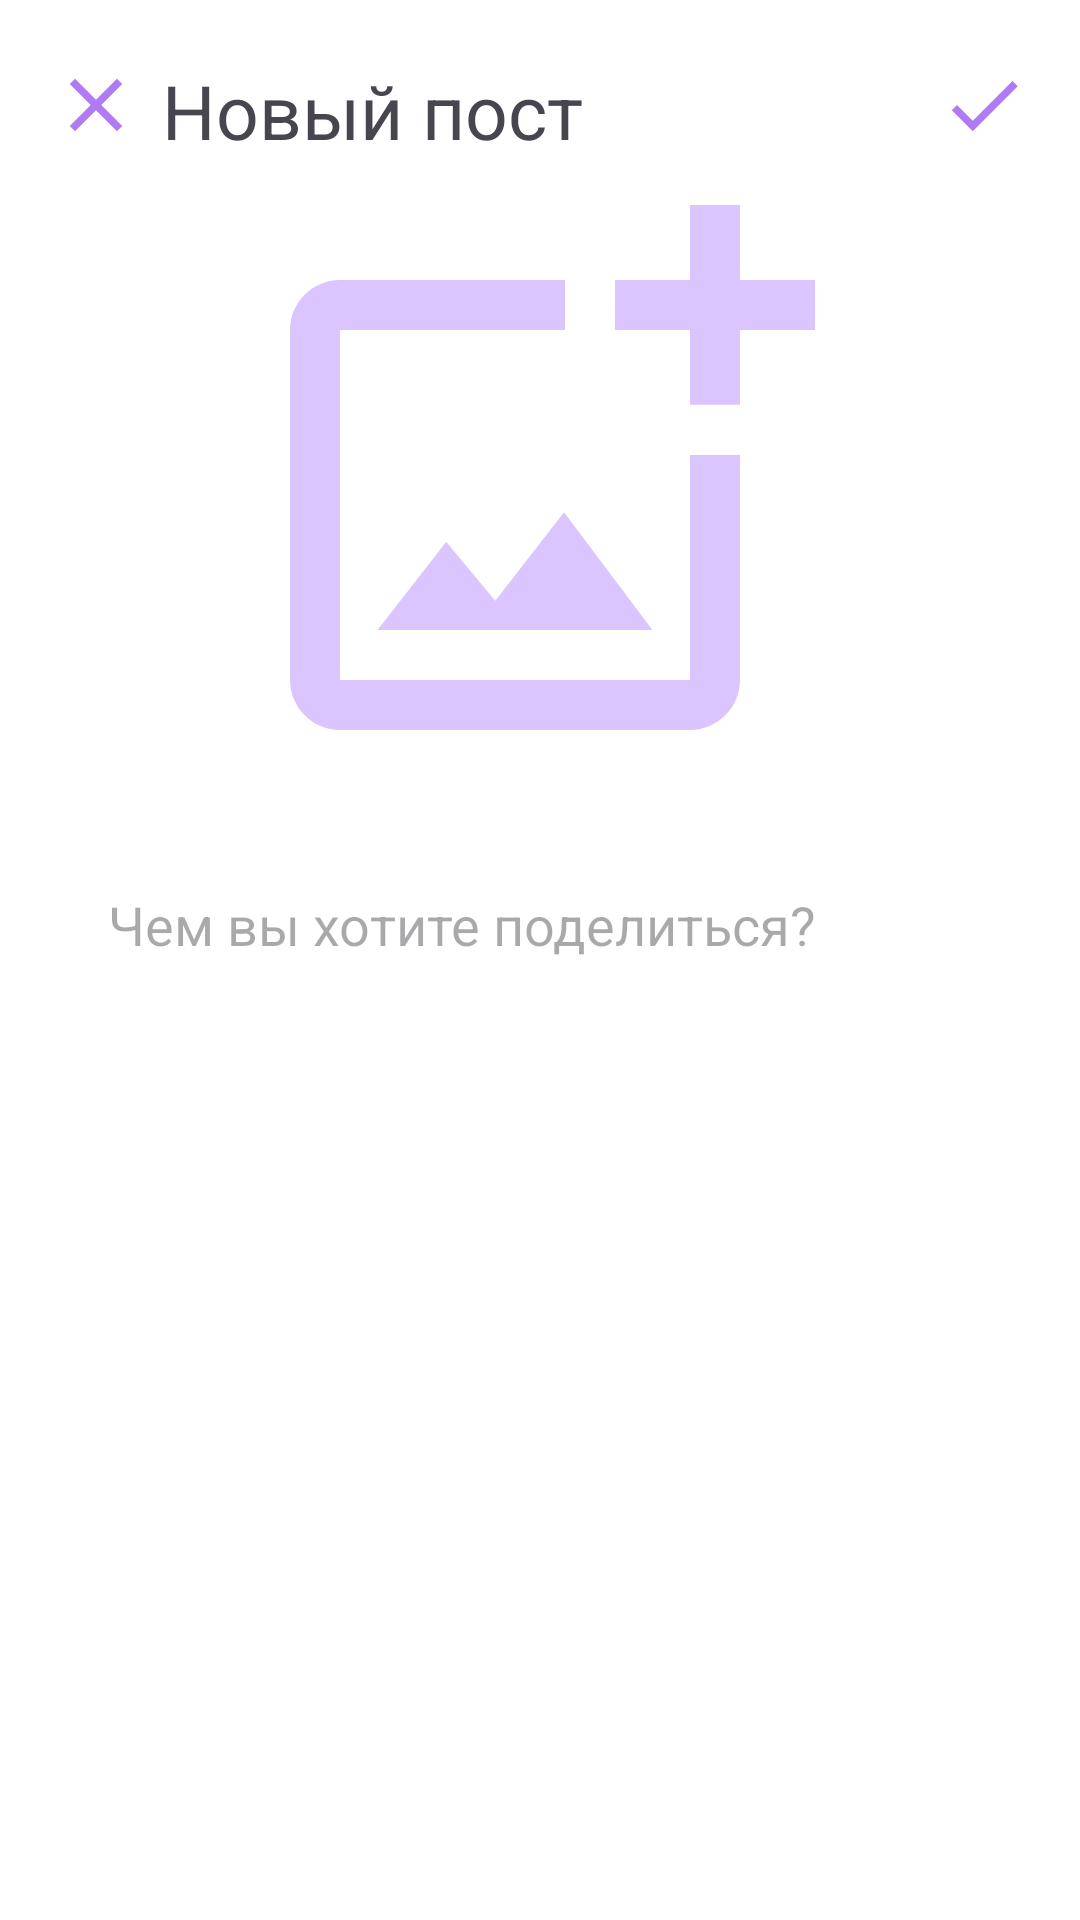

Icon click points for this 1080x1920 phone screenshot, format (x=x, y=y):
close: (x=96, y=105)
done: (x=985, y=106)
